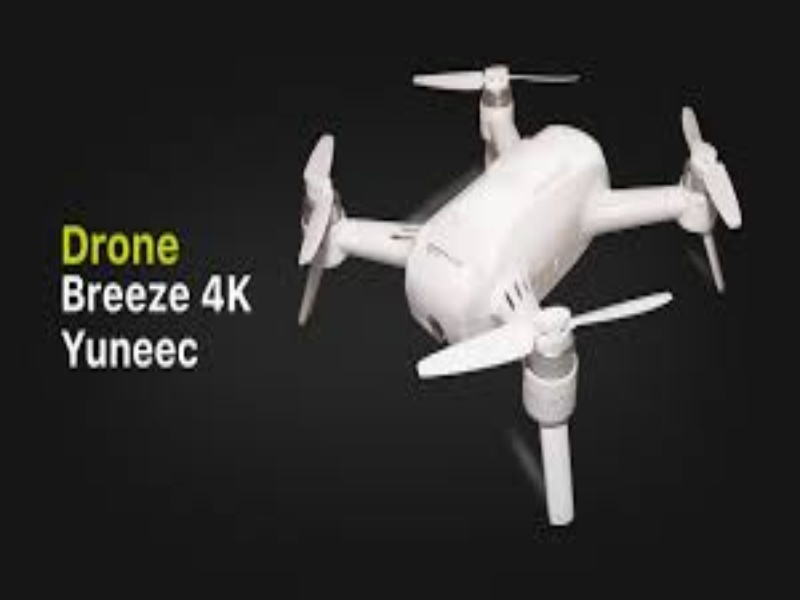drone: (297, 54, 756, 531)
